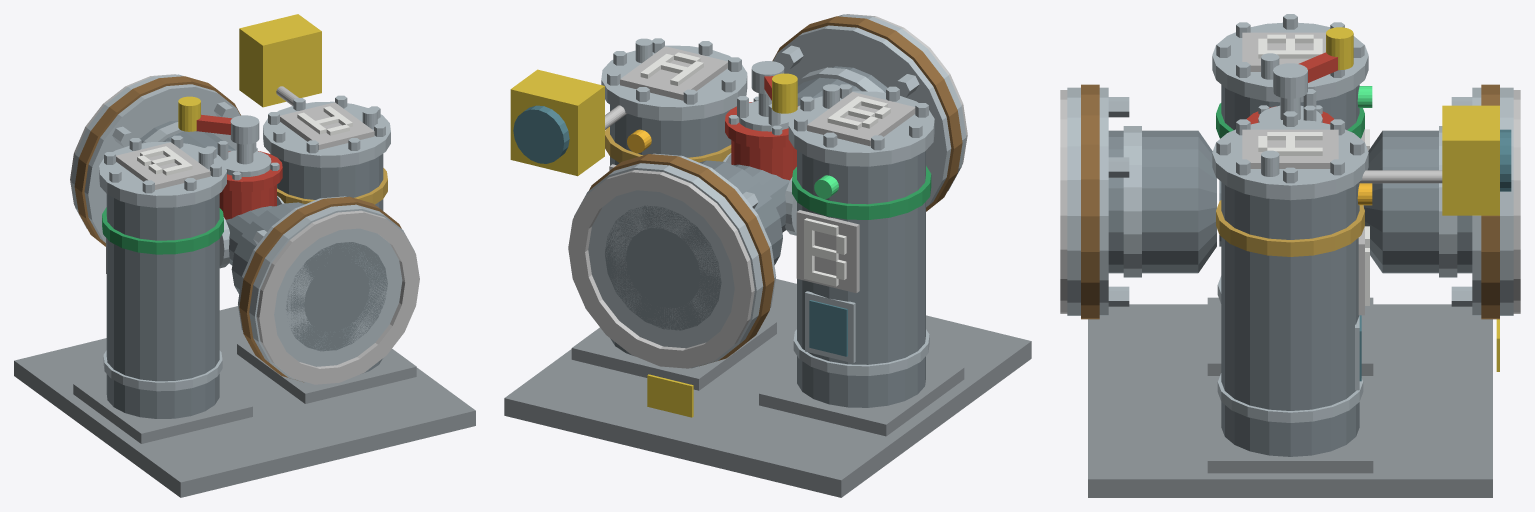
The model's file is body_b_closed.obj.
3 views of the same model, side by side, from view 1: azimuth 30°, elevation 25°; view 2: azimuth 150°, elevation 25°; view 3: azimuth 270°, elevation 25° (orthographic). The views are drawn at different scales.
Bounding box in the file's own units: 0.9 × 0.855 × 1.
